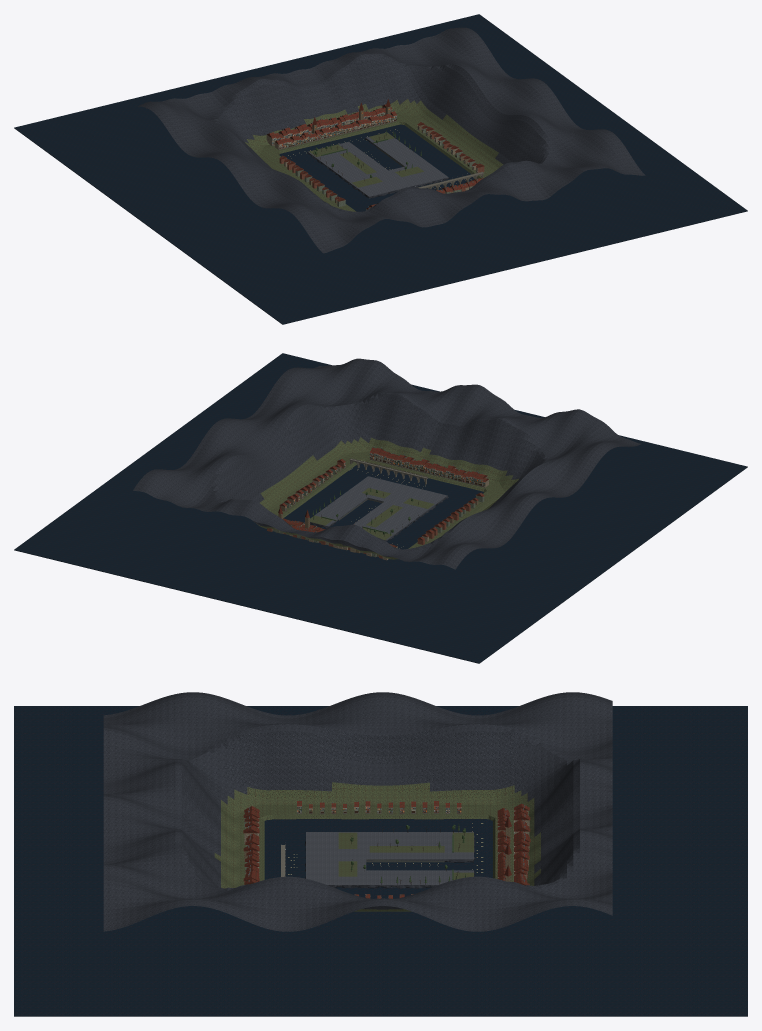
File: MB_Scenery.fbx
3 views of the same model, one above another, from view 1: azimuth 30°, elevation 25°; view 2: azimuth 150°, elevation 25°; view 3: azimuth 270°, elevation 25° (orthographic). The views are drawn at different scales.
Parts seen in each view (by area): view 1: Water, Hills, Ground_W, Ground_E, Ground_N; view 2: Water, Hills, Ground_W, Ground_E, Ground_N; view 3: Water, Hills, Ground_W, Ground_E, Ground_N.
Boxes of the visible parts, <box> form: Water: <box>14,14,747,324</box>; Hills: <box>137,27,645,253</box>; Ground_W: <box>308,141,409,197</box>; Ground_E: <box>366,137,426,166</box>; Ground_N: <box>389,161,448,186</box>; Water: <box>14,353,747,663</box>; Hills: <box>133,358,641,569</box>; Ground_W: <box>353,485,447,541</box>; Ground_E: <box>312,492,367,526</box>; Ground_N: <box>346,476,405,501</box>; Water: <box>14,706,747,1016</box>; Hills: <box>103,692,612,931</box>; Ground_W: <box>306,832,473,860</box>; Ground_E: <box>366,870,473,886</box>; Ground_N: <box>306,859,366,886</box>.
Bounding box in the file's own units: 90000 × 10039 × 90000.
Materials: 27 (20 with a texture image).
